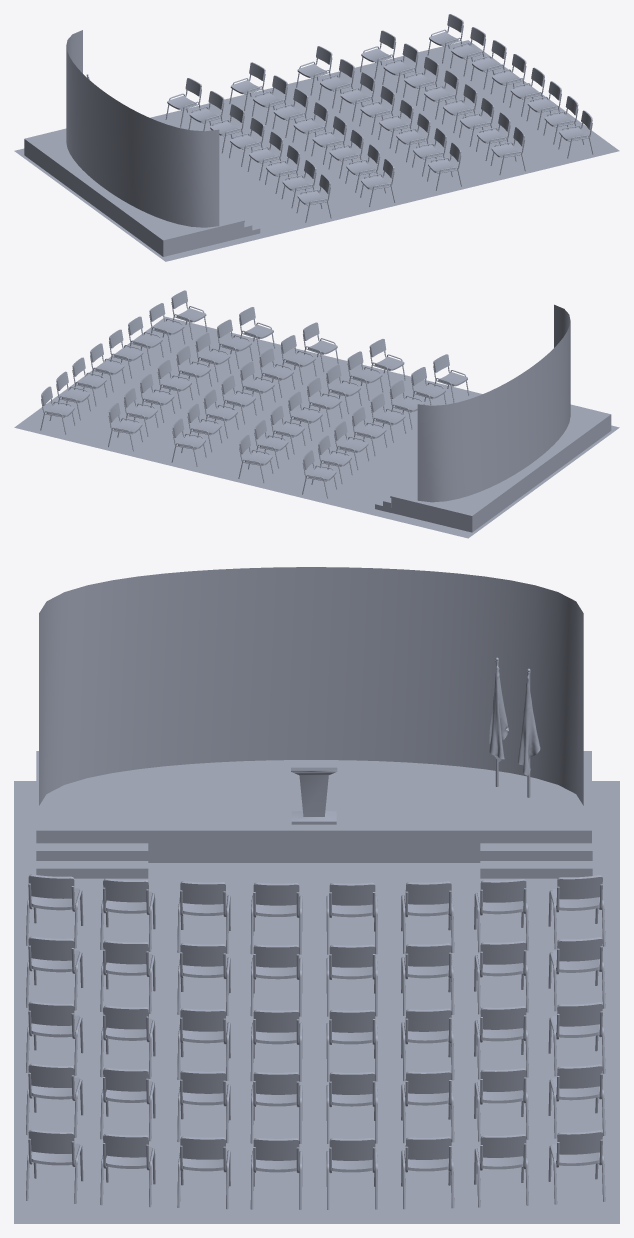
Rendered from simple_stage.glb.
The picture shows the model from 3 angles, top to bottom: view 1: azimuth 30°, elevation 25°; view 2: azimuth 150°, elevation 25°; view 3: azimuth 270°, elevation 25°; orthographic projection. The views are drawn at different scales.
Parts seen in each view (by area): view 1: STAGE; view 2: STAGE; view 3: STAGE.
Boxes of the visible parts, x1,y1,x2,y2 form: STAGE: (14, 14, 619, 261); STAGE: (14, 290, 619, 538); STAGE: (14, 567, 619, 1223).
Size of the model in its own units: 20.25 by 4.83 by 11.71.
